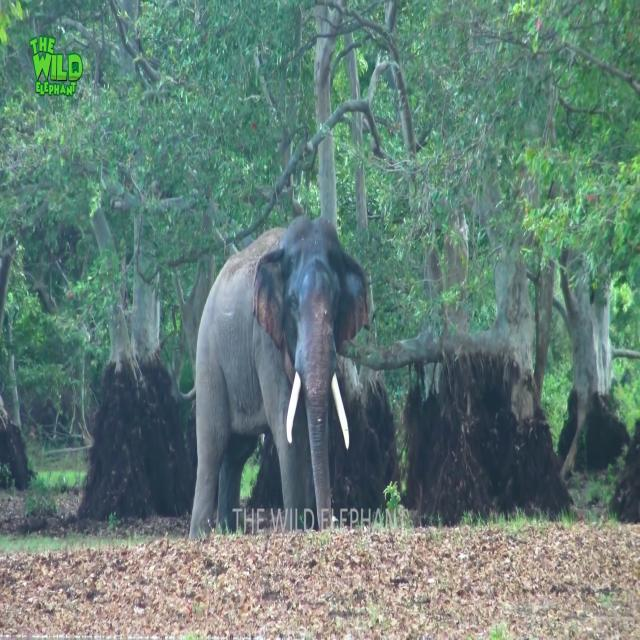Elephant: (185, 214, 370, 540)
